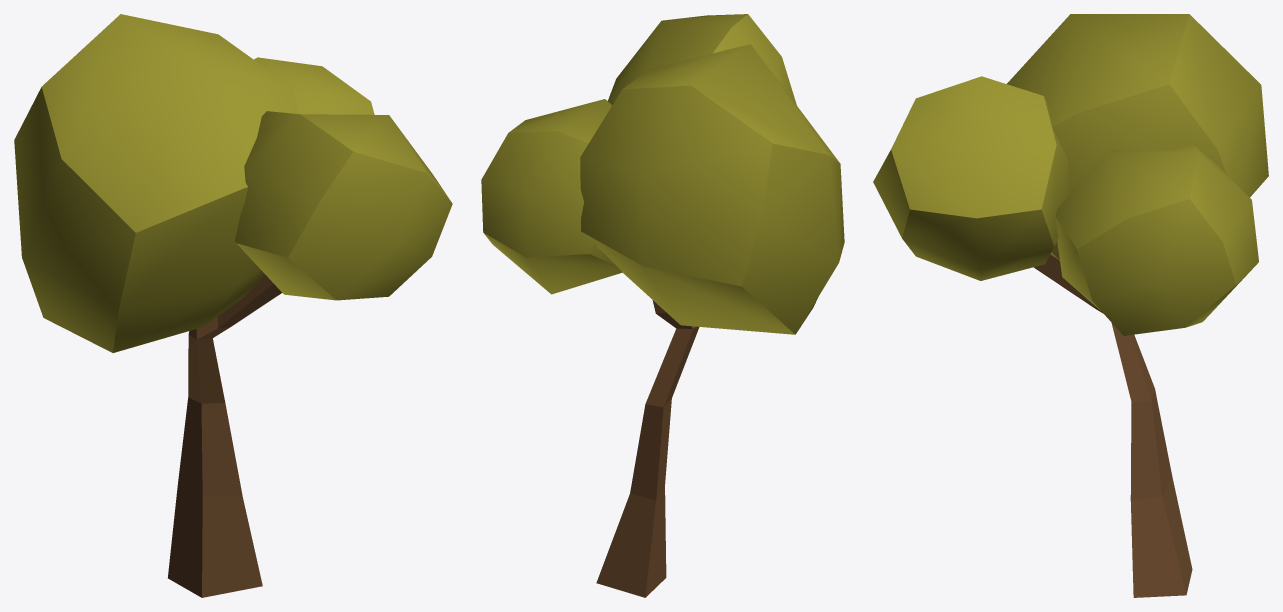
The model's file is tree4.fbx.
3 renders of one model, left to right at view 1: azimuth 30°, elevation 25°; view 2: azimuth 150°, elevation 25°; view 3: azimuth 270°, elevation 25°, orthographic. The views are drawn at different scales.
Visible parts, largest first — view 1: Tree4; view 2: Tree4; view 3: Tree4.
Boxes of the visible parts, <box> form: Tree4: <box>14,14,452,597</box>; Tree4: <box>481,14,844,597</box>; Tree4: <box>873,14,1268,597</box>.
Size of the model in its own units: 369 by 545 by 367.
